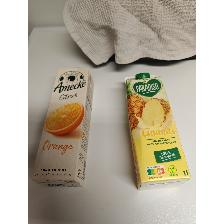Saft: (29, 66, 96, 190), (124, 72, 192, 192)
